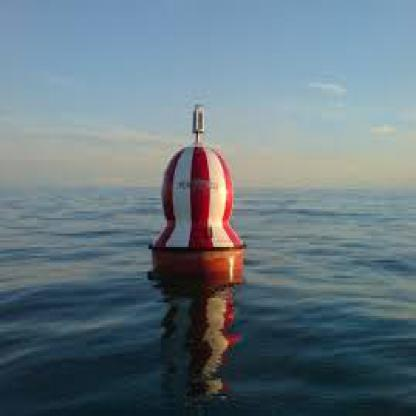buoy: (155, 102, 261, 287)
